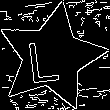L_N: (33, 30, 70, 84)
